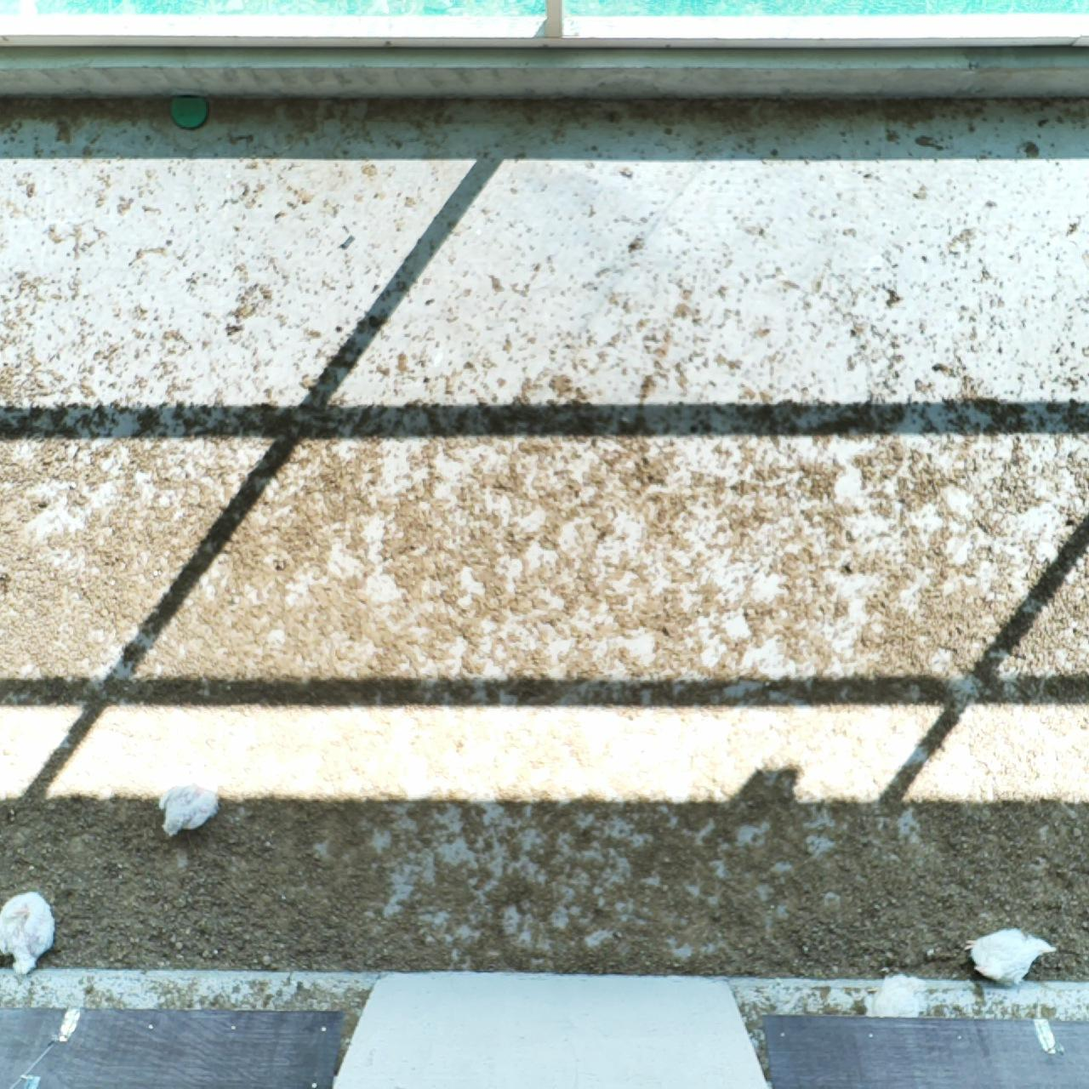chicken: (962, 924, 1061, 982), (0, 885, 58, 978), (155, 781, 223, 838)
